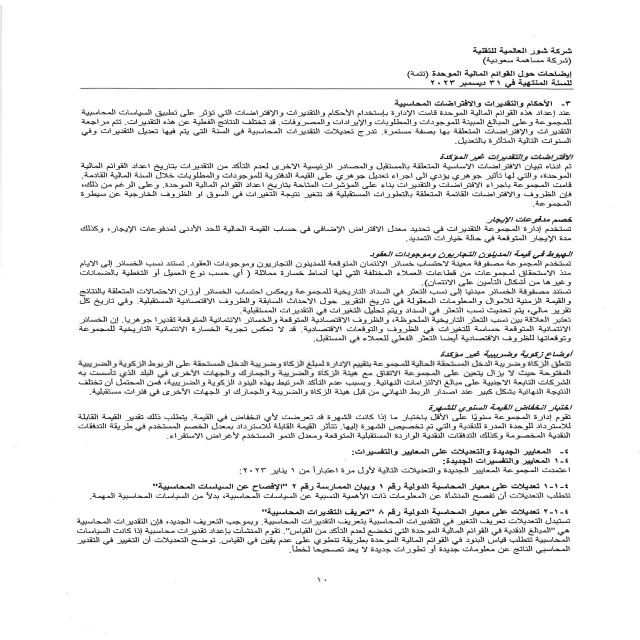notes: (398, 68, 586, 80)
text: (39, 98, 581, 561)
